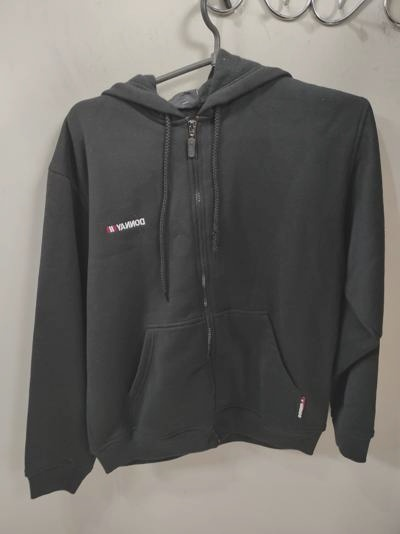Hoodie: (5, 47, 389, 521)
